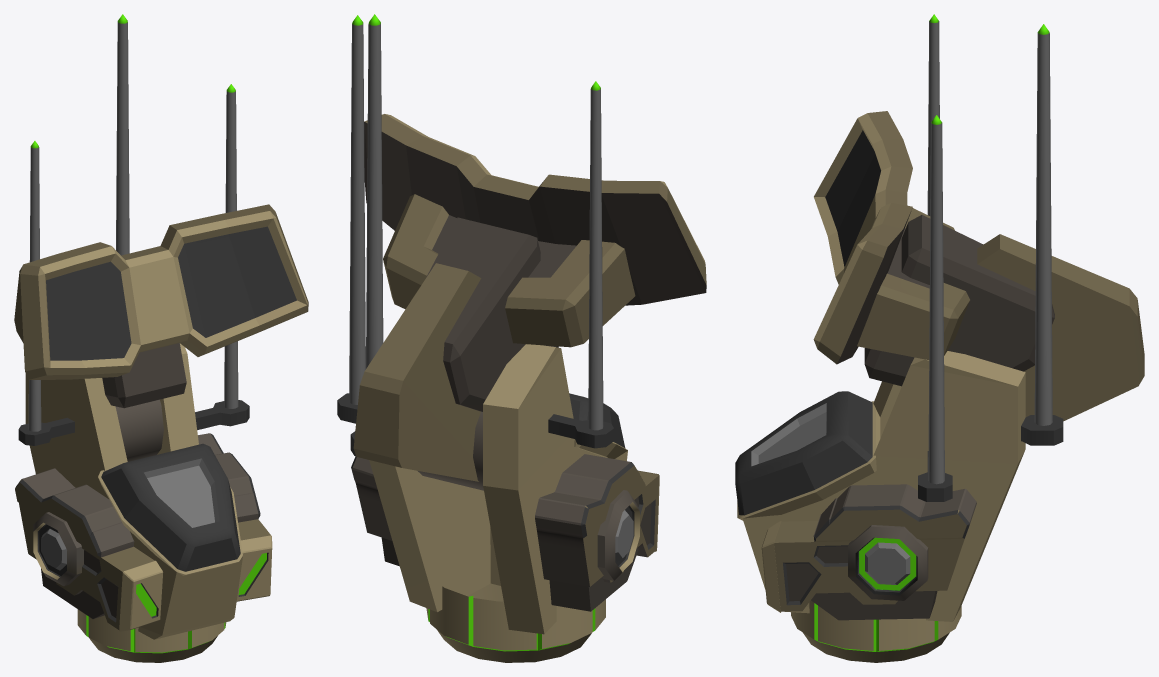
Rendered from Detector.fbx.
3 renders of one model, left to right at view 1: azimuth 30°, elevation 25°; view 2: azimuth 150°, elevation 25°; view 3: azimuth 270°, elevation 25°, orthographic. The views are drawn at different scales.
Visible parts, largest first — view 1: group45; view 2: group45; view 3: group45.
Boxes of the visible parts, bbox=[...] form: group45: bbox=[14, 14, 308, 662]; group45: bbox=[337, 14, 706, 662]; group45: bbox=[735, 14, 1144, 662].
Bounding box in the file's own units: 3.89 × 7.31 × 4.28.
